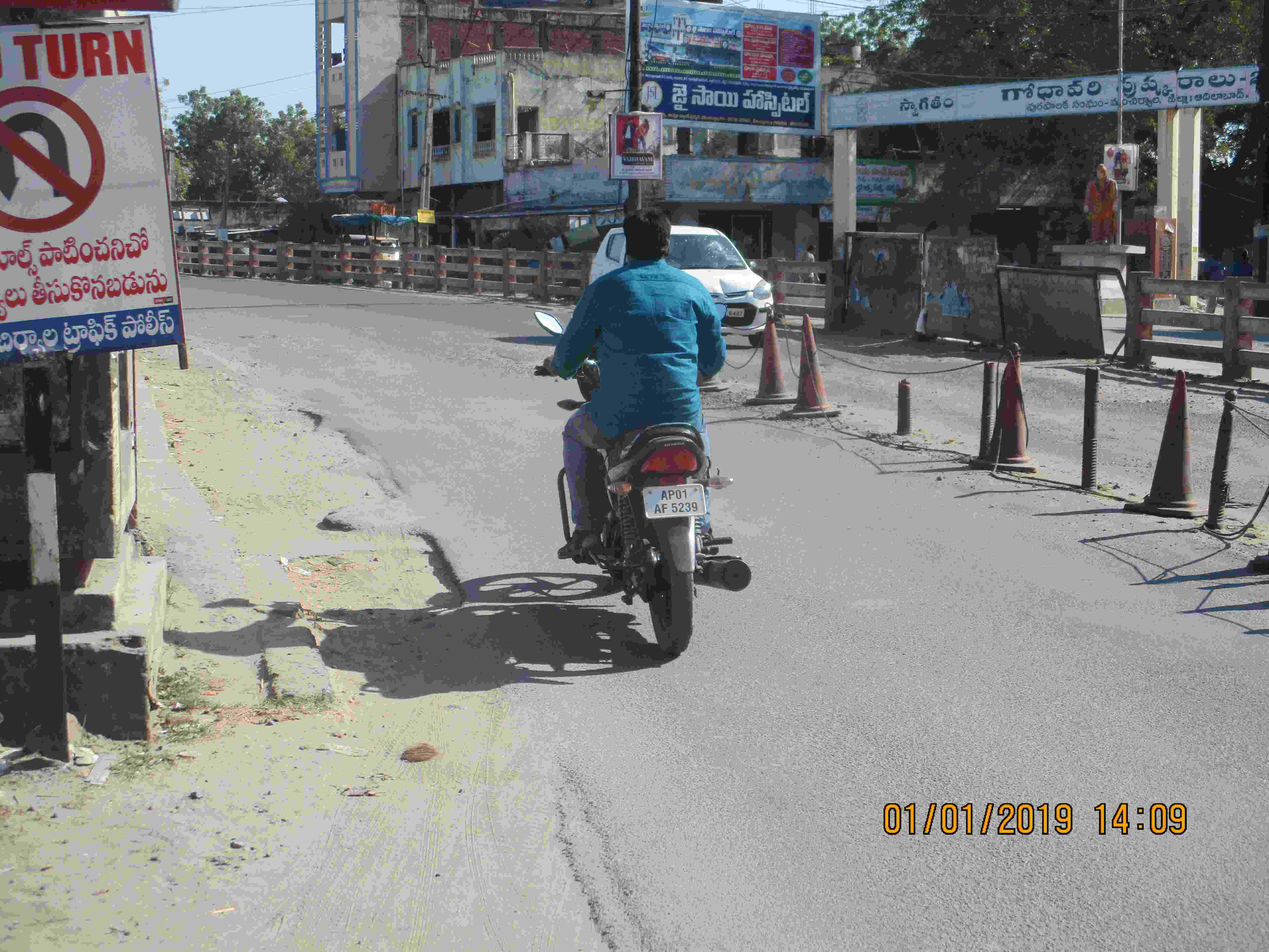plate: (640, 479, 716, 521)
